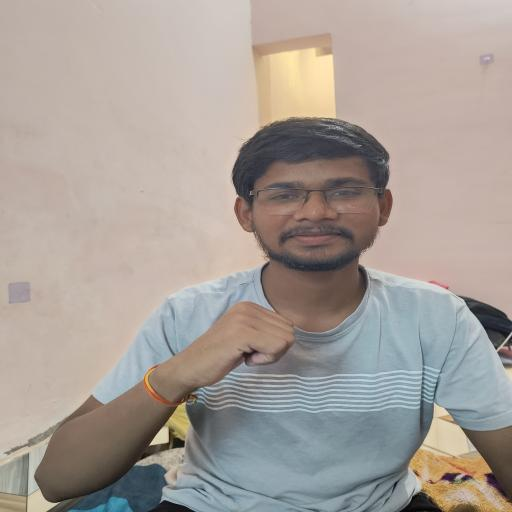wait: (180, 290, 308, 406)
